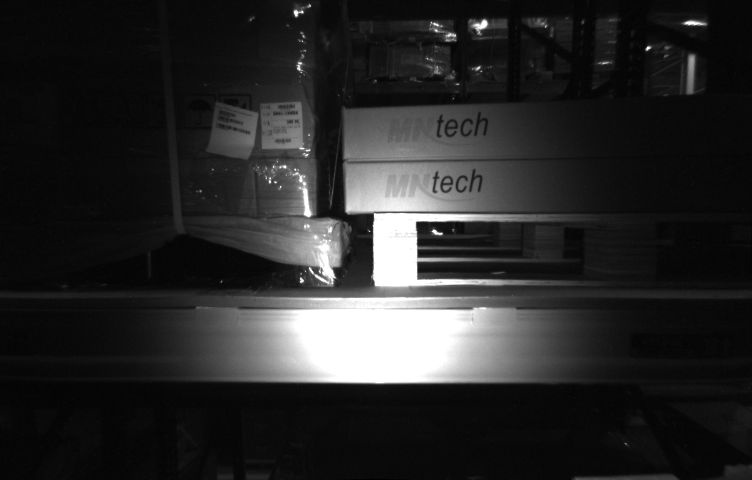True Barcode: (262, 101, 303, 152)
